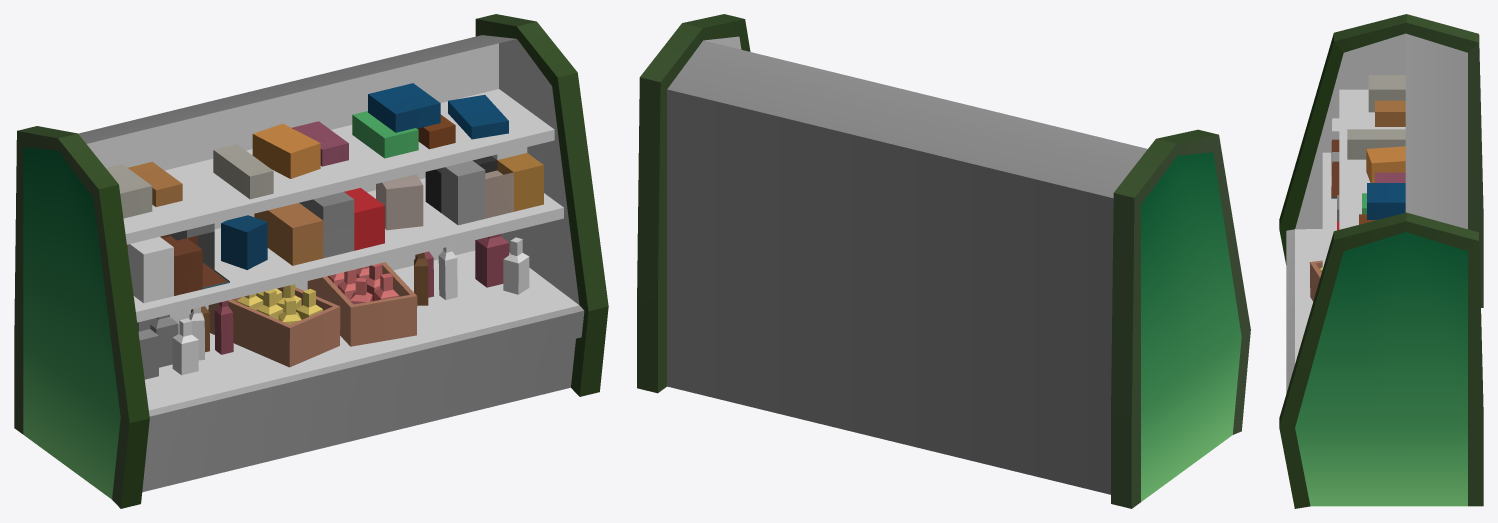
The model's file is B03_presentoir_01.fbx.
3 renders of one model, left to right at view 1: azimuth 30°, elevation 25°; view 2: azimuth 150°, elevation 25°; view 3: azimuth 270°, elevation 25°, orthographic. The views are drawn at different scales.
Visible parts, largest first — view 1: B03_presentoir_01; view 2: B03_presentoir_01; view 3: B03_presentoir_01.
Part boxes in pixels (x1=…): B03_presentoir_01: x1=14, y1=14, x2=608, y2=508; B03_presentoir_01: x1=637, y1=14, x2=1250, y2=508; B03_presentoir_01: x1=1279, y1=14, x2=1483, y2=508.
Bounding box in the file's own units: 334 × 216 × 139.
